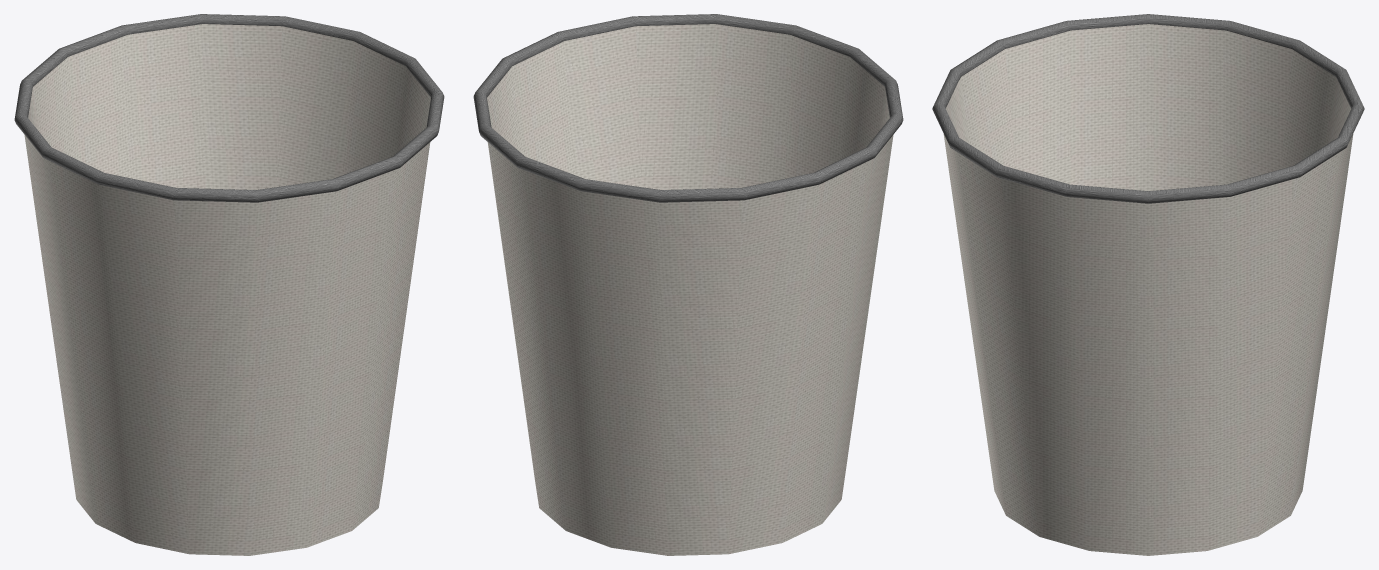
The model's file is M_Waste_Bin.FBX.
3 views of the same model, side by side, from view 1: azimuth 30°, elevation 25°; view 2: azimuth 150°, elevation 25°; view 3: azimuth 270°, elevation 25° (orthographic).
Visible parts, largest first — view 1: Waste_Bin; view 2: Waste_Bin; view 3: Waste_Bin.
Part boxes in pixels (x1,y1,x2,y2): Waste_Bin: (14, 14, 444, 555); Waste_Bin: (473, 14, 903, 555); Waste_Bin: (932, 14, 1364, 555).
Size of the model in its own units: 25.96 by 25.69 by 25.96.
